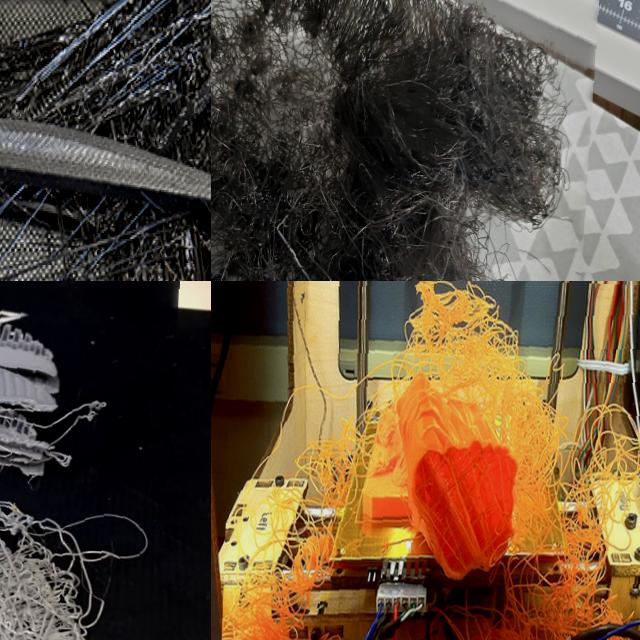spaghetti: (219, 281, 640, 640), (211, 0, 602, 281), (0, 281, 181, 640), (0, 0, 211, 281)
